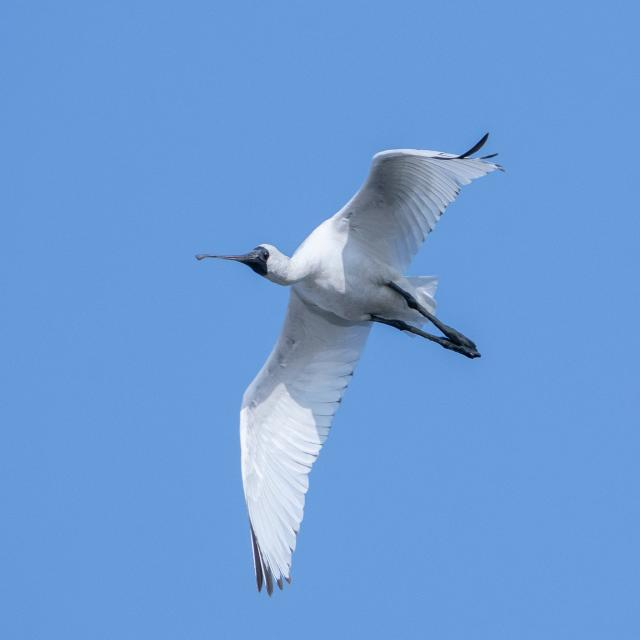Black-faced spoonbill: (197, 135, 501, 595)
